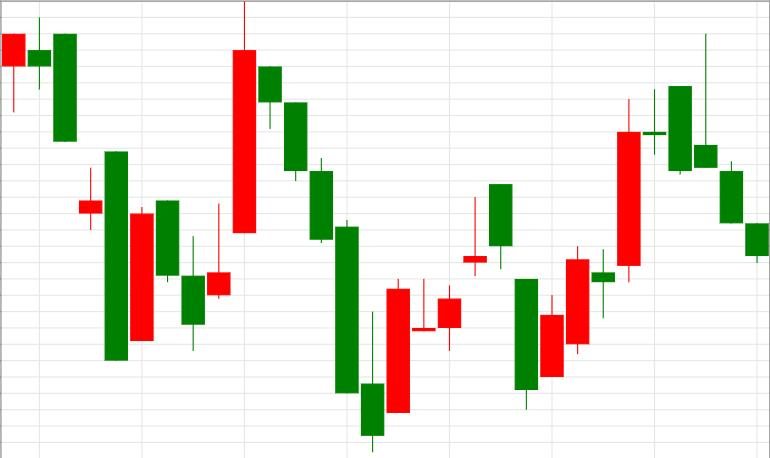three_black_crows_fall: (131, 0, 332, 351)
